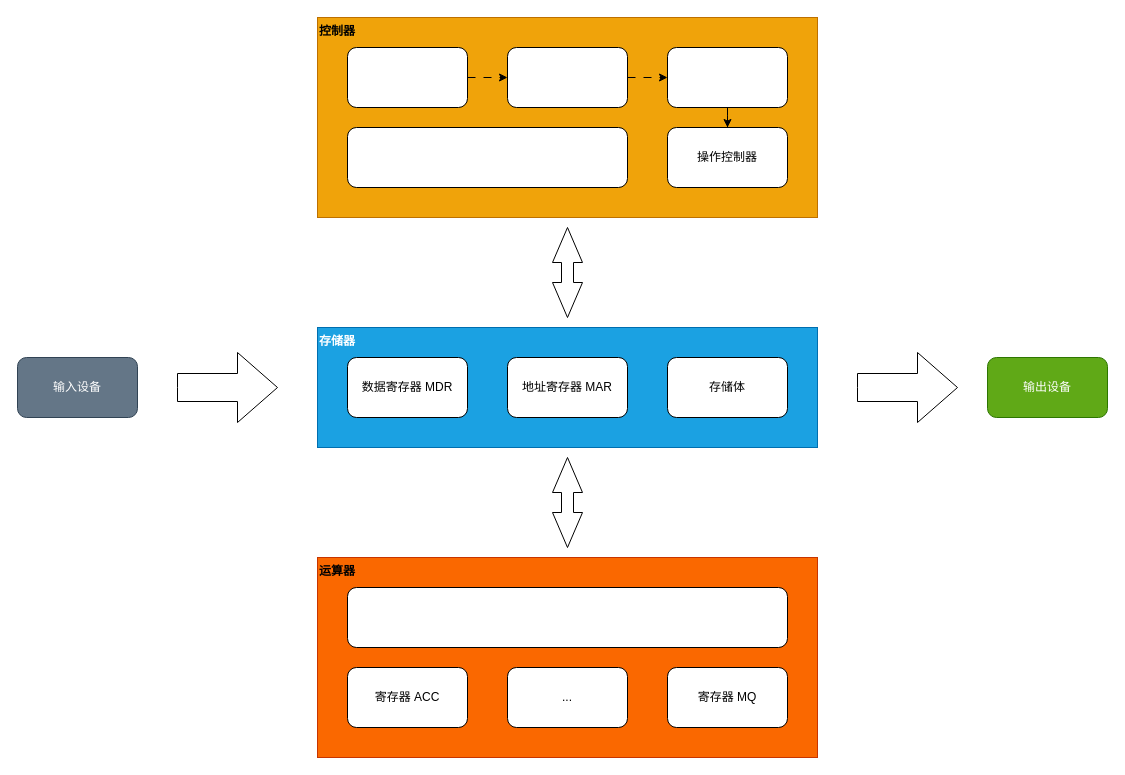
Image size: 1125x775. Some labels were removed from this diagram. The centre of each missing label's shape, as x and y in pixels:
指令寄存器 IR: the point at 567,77
指令译码器 ID: the point at 727,77
时序产生器: the point at 487,157
程序计数器 PC: the point at 407,77
算数逻辑单元 ALU: the point at 567,617
